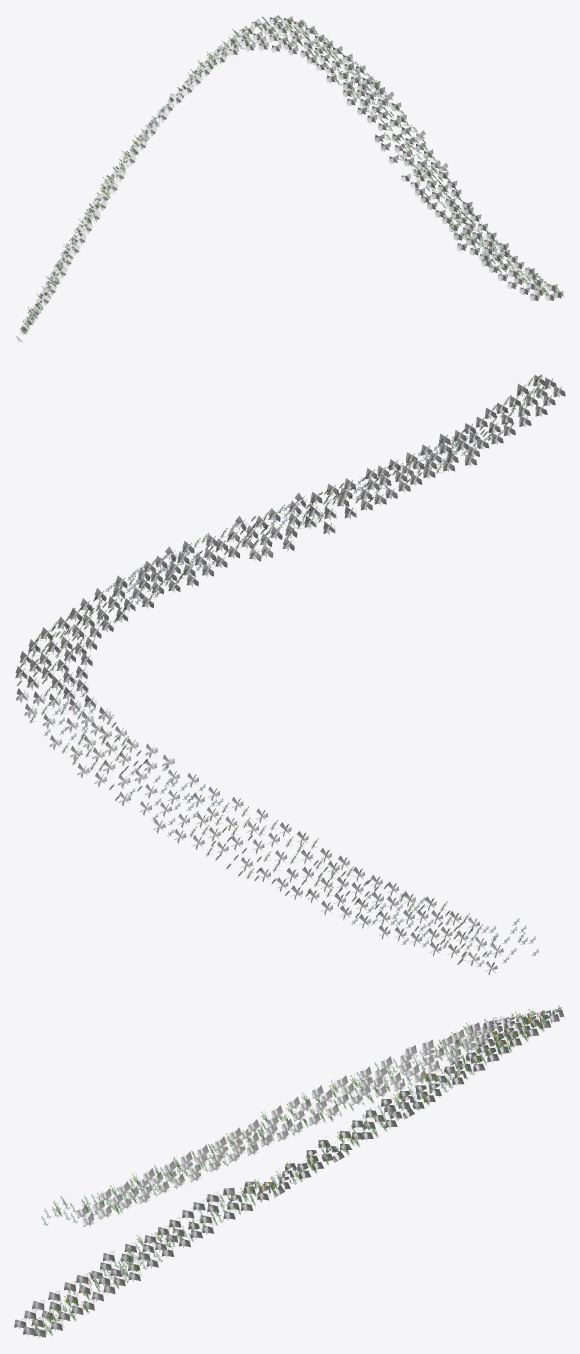
Rendered from grass_field_t.glb.
The picture shows the model from 3 angles, top to bottom: view 1: azimuth 30°, elevation 25°; view 2: azimuth 150°, elevation 25°; view 3: azimuth 330°, elevation 25°; orthographic projection. The views are drawn at different scales.
Visible parts, largest first — view 1: stk_grassAlpha.png__, BlackEyedSusan.png__, Flower3.png__, Flower5.png__; view 2: stk_grassAlpha.png__, BlackEyedSusan.png__, Flower3.png__, Flower5.png__, Flower3F.png__; view 3: stk_grassAlpha.png__, BlackEyedSusan.png__, Flower3.png__, Flower5.png__, Flower3F.png__.
Boxes of the visible parts, x1=… form: stk_grassAlpha.png__: x1=19, y1=15, x2=563, y2=335; BlackEyedSusan.png__: x1=22, y1=18, x2=559, y2=329; Flower3.png__: x1=17, y1=38, x2=502, y2=341; Flower5.png__: x1=27, y1=16, x2=563, y2=318; stk_grassAlpha.png__: x1=15, y1=375, x2=565, y2=975; BlackEyedSusan.png__: x1=29, y1=376, x2=547, y2=961; Flower3.png__: x1=43, y1=430, x2=537, y2=966; Flower5.png__: x1=17, y1=375, x2=541, y2=964; Flower3F.png__: x1=45, y1=430, x2=538, y2=964; stk_grassAlpha.png__: x1=14, y1=1007, x2=564, y2=1337; BlackEyedSusan.png__: x1=31, y1=1009, x2=546, y2=1335; Flower3.png__: x1=42, y1=1014, x2=520, y2=1285; Flower5.png__: x1=38, y1=1006, x2=560, y2=1337; Flower3F.png__: x1=41, y1=1015, x2=520, y2=1280.
Bounding box in the file's own units: 146 × 88.15 × 269.
6 materials, 5 textured.
